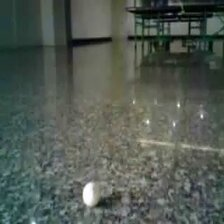w: (83, 181, 101, 206)
